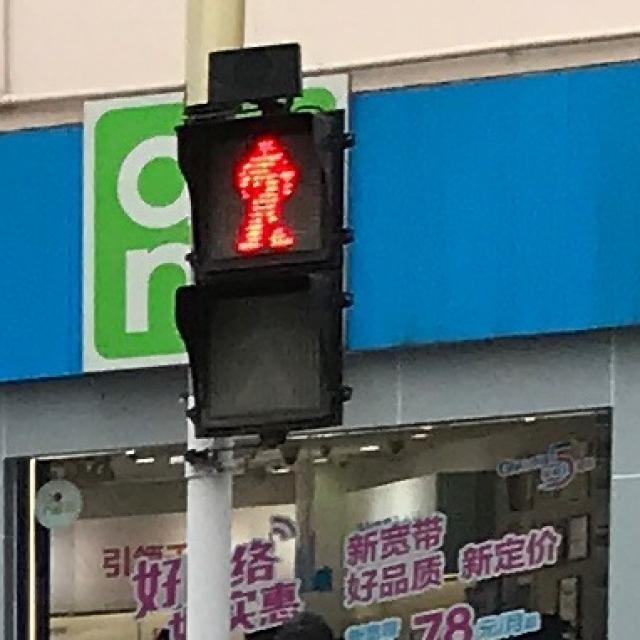red-crossing: (218, 125, 304, 264)
